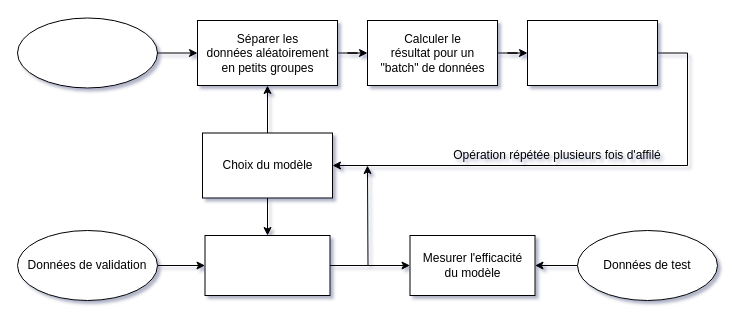
Some shapes in this 741 by 324 pixel diagram are drawn without their labels. Each missing label, with the centre of its shape:
Données d'entraînement: the point at 87,52
Evaluer le choix des hyperparamètres du modèle: the point at 267,265
Modifier le modèle pour minimiser la fonction de coût: the point at 592,53
